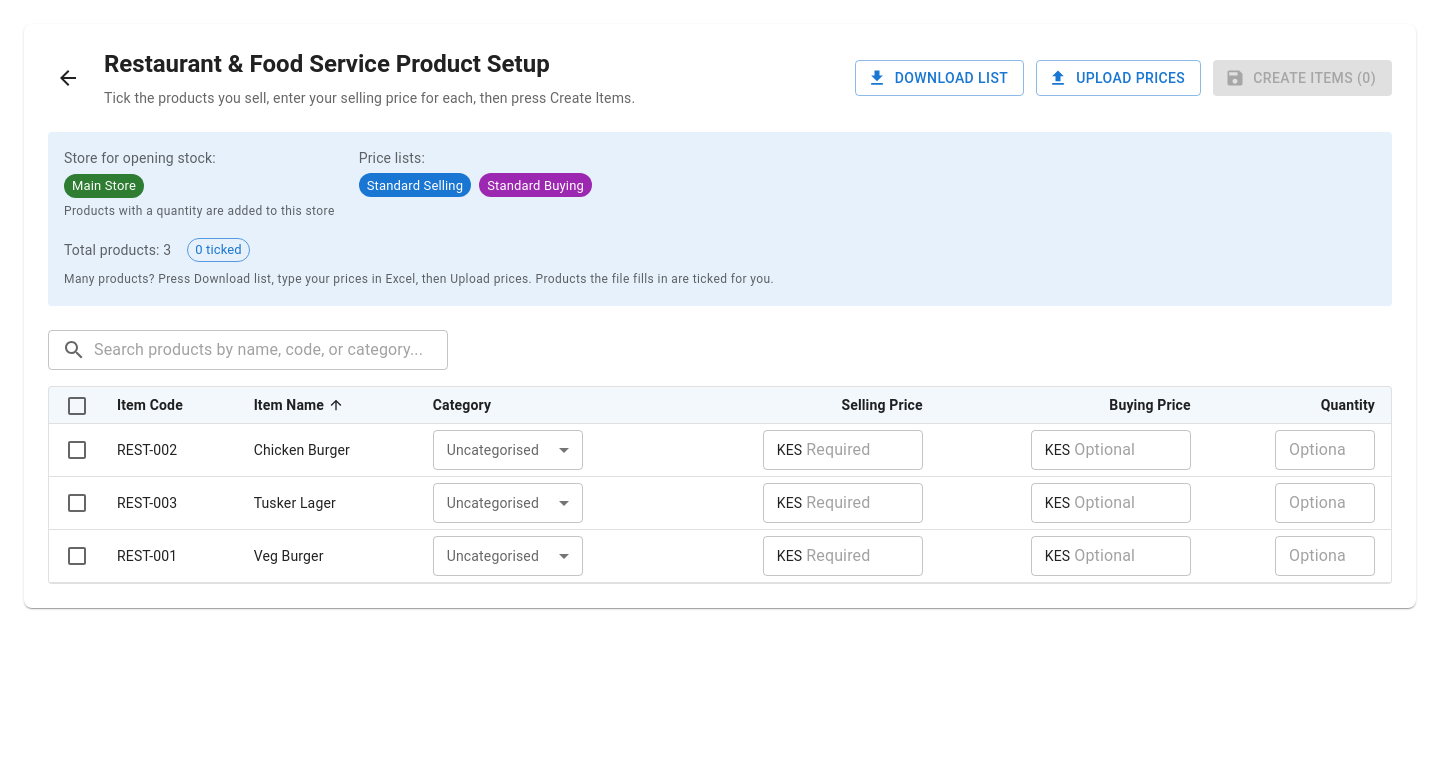
Test: Starter products page › shows what the server did when only some products were saved
The width and height of the screenshot is (1440, 778).
Expected: the text "Veg Burger" is shown, [238,529,417,582]
Click the checkbox named "Tick Veg Burger". click: click(77, 556)
box: [65,544,89,568]
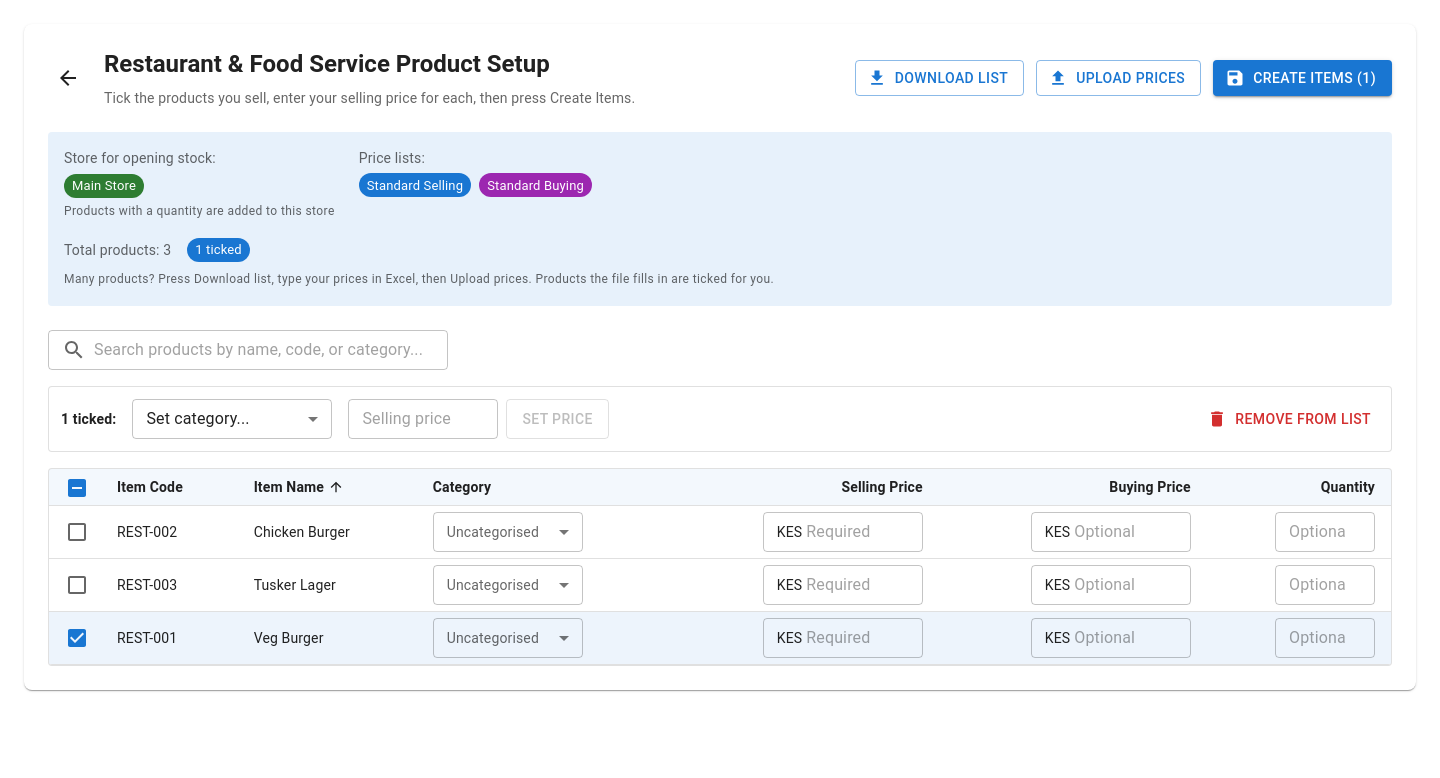
Click the checkbox named "Tick Chicken Burger". click: click(77, 532)
box: [65,520,89,544]
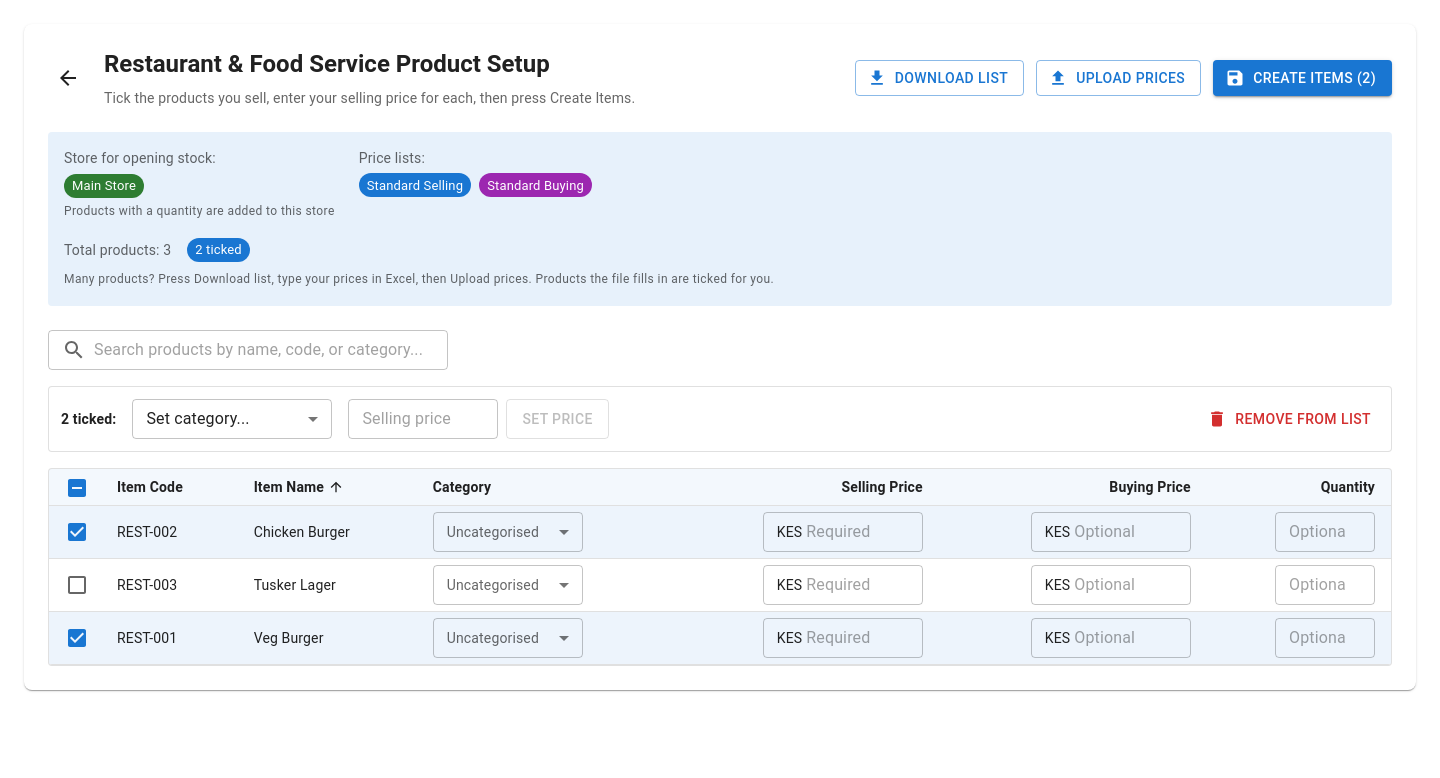
Type "350" into the number field named "Selling price for Veg Burger". click: (865, 638)
box: [806,618,923,658]
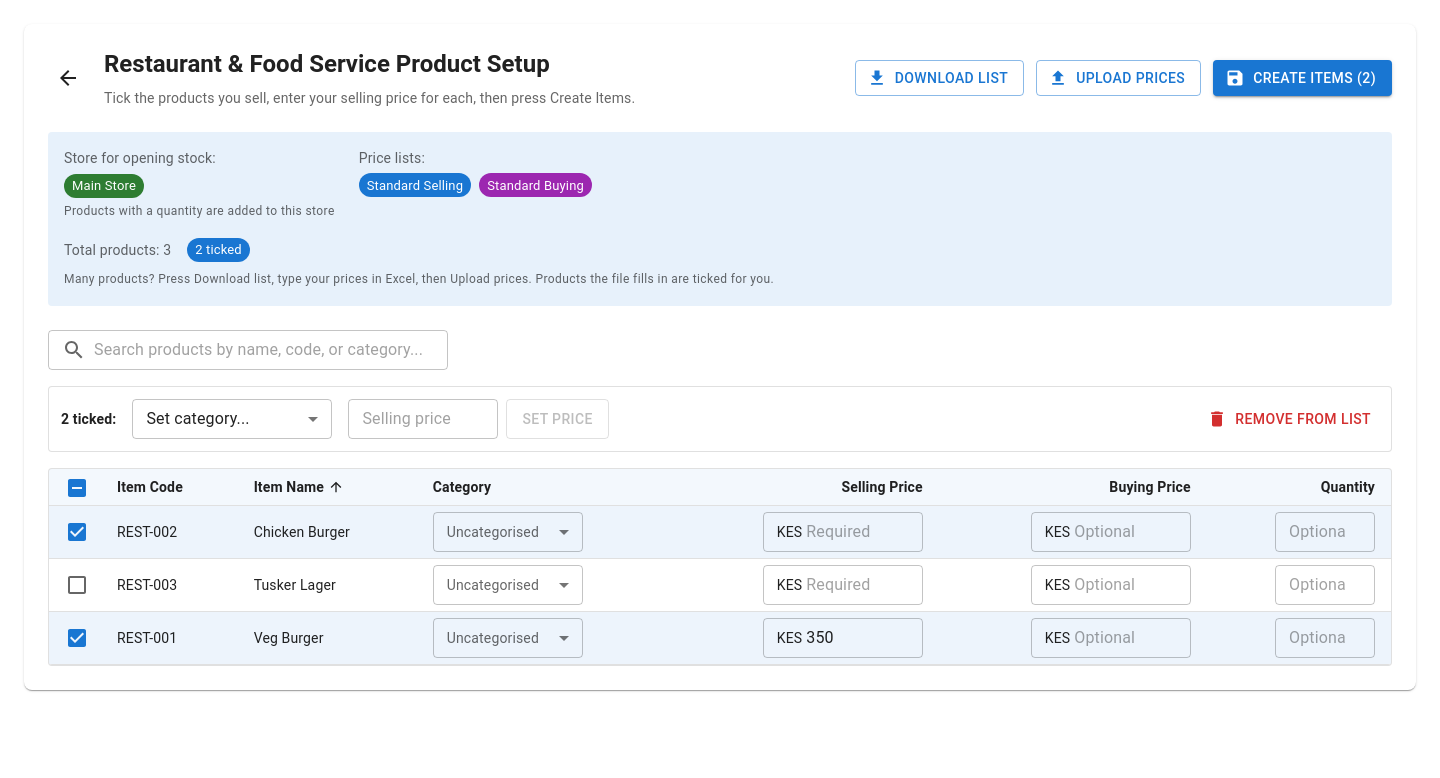
Type "400" into the number field named "Selling price for Chicken Burger". click: (865, 532)
box: [806,512,923,552]
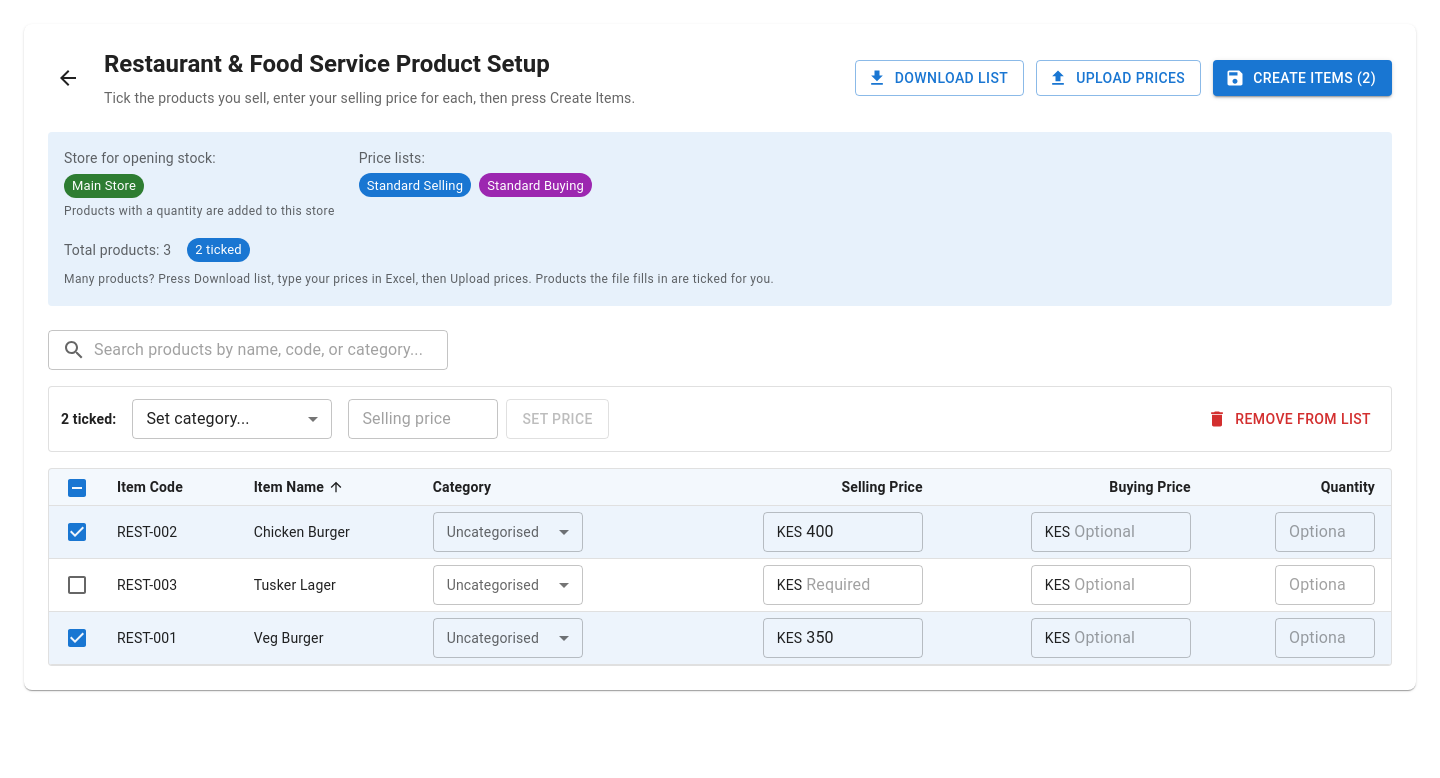
Click the button "Create Items (2)". click: click(1303, 78)
box: [1213,60,1392,96]
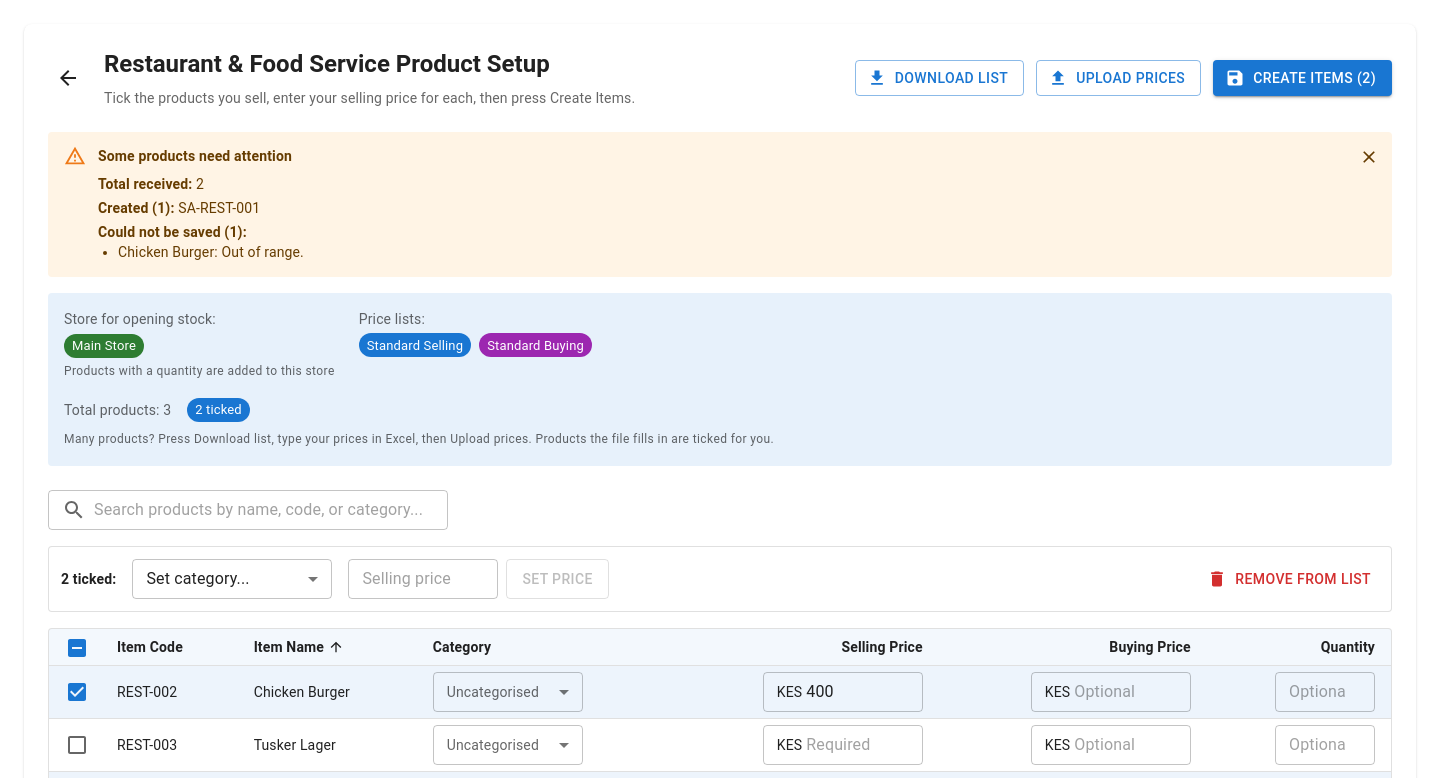
Now the text "Some products need attention" is shown, box [98,146,304,166]
Now the list item "Chicken Burger: Out of range." is shown, box [118,242,304,262]
